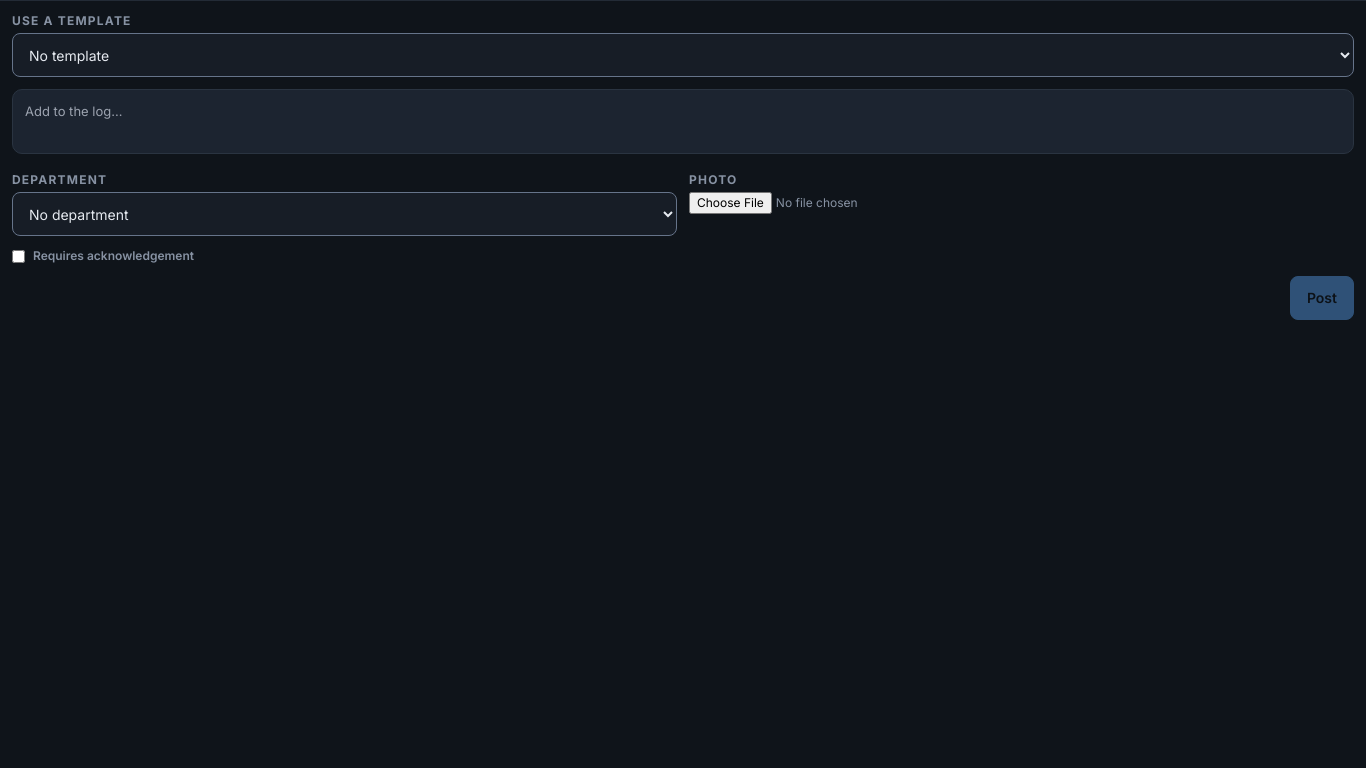
Test: LogComposer with templates › shows the server’s reason beside the field it names
Step 1. Select "Night Audit" in the dropdown labelled "Use a template" → (683,55), box [12,33,1354,77]
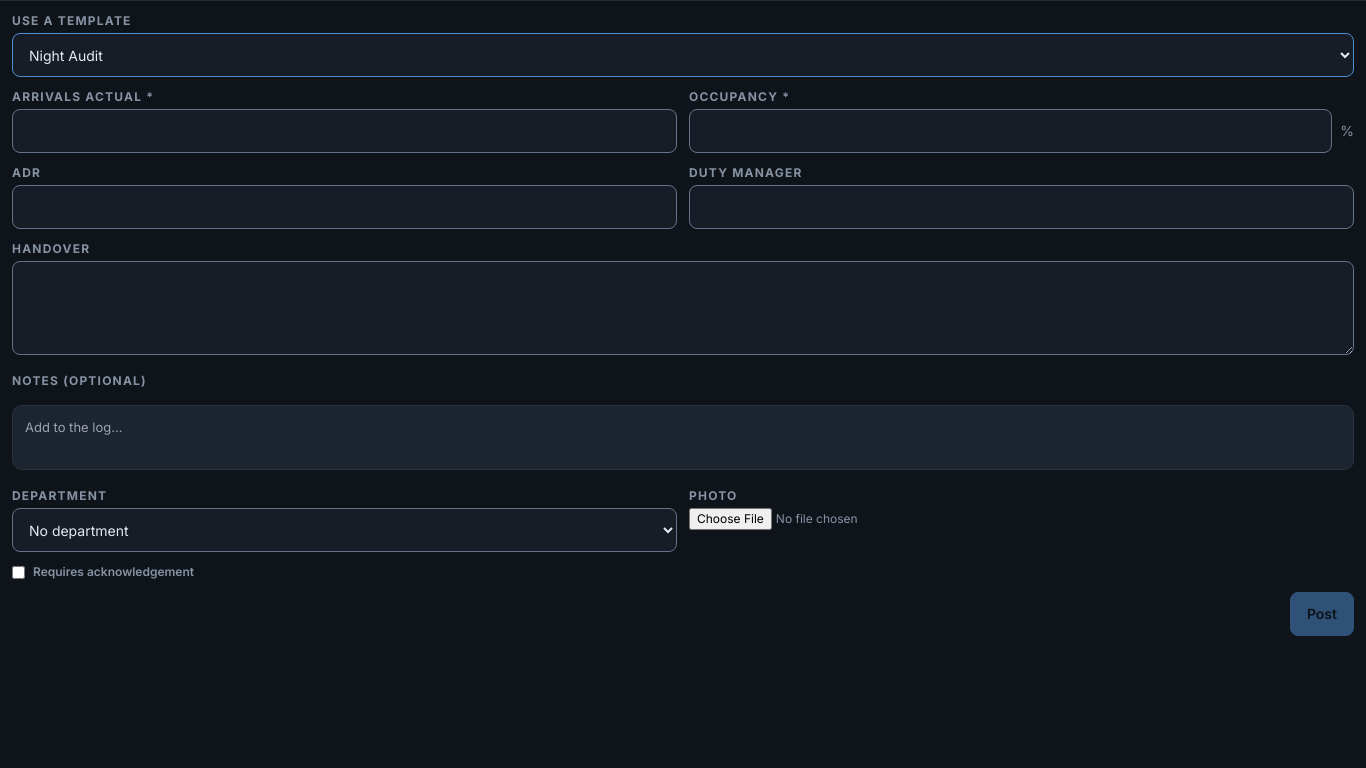
Step 2. Type "12.5" into the field labelled "Arrivals actual *" → (344,131), box [12,109,677,153]
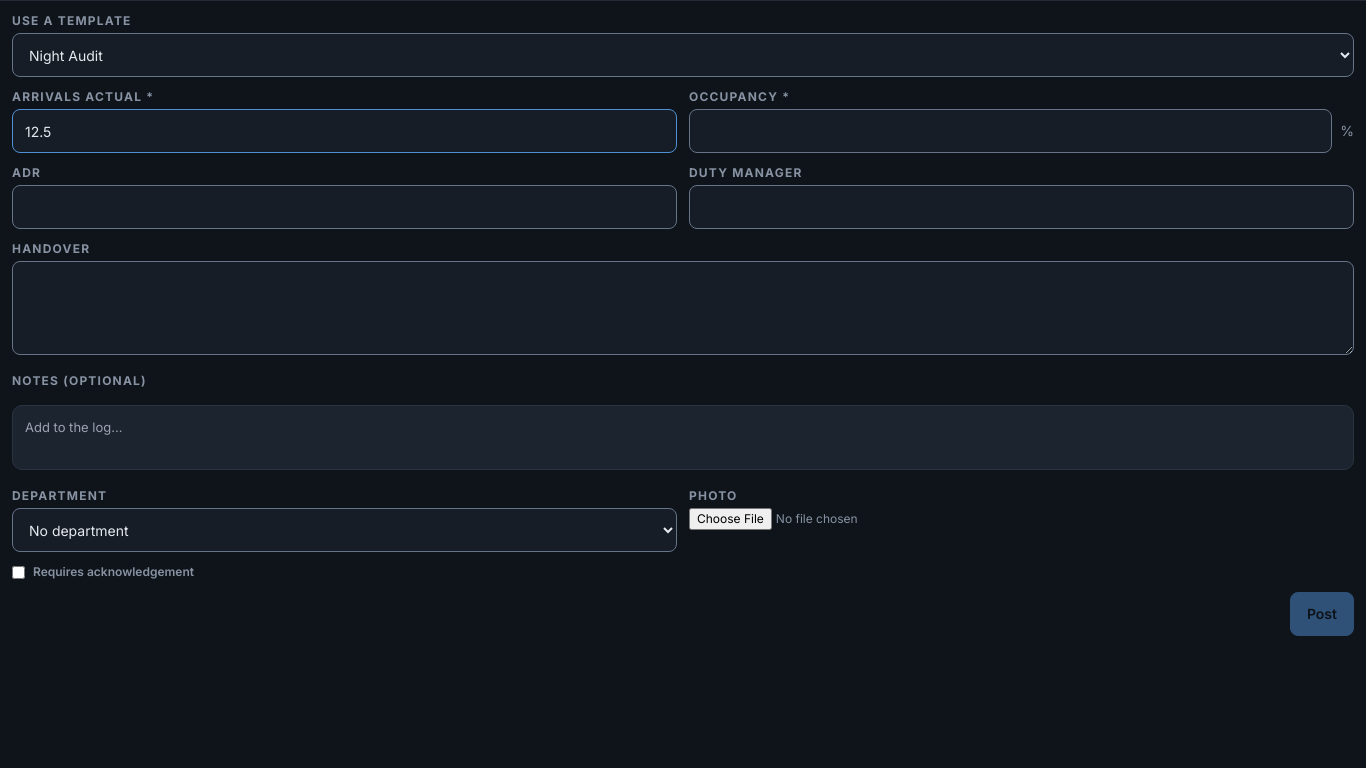
Step 3. Type "140" into the field labelled "Occupancy *" → (1011,131), box [689,109,1332,153]
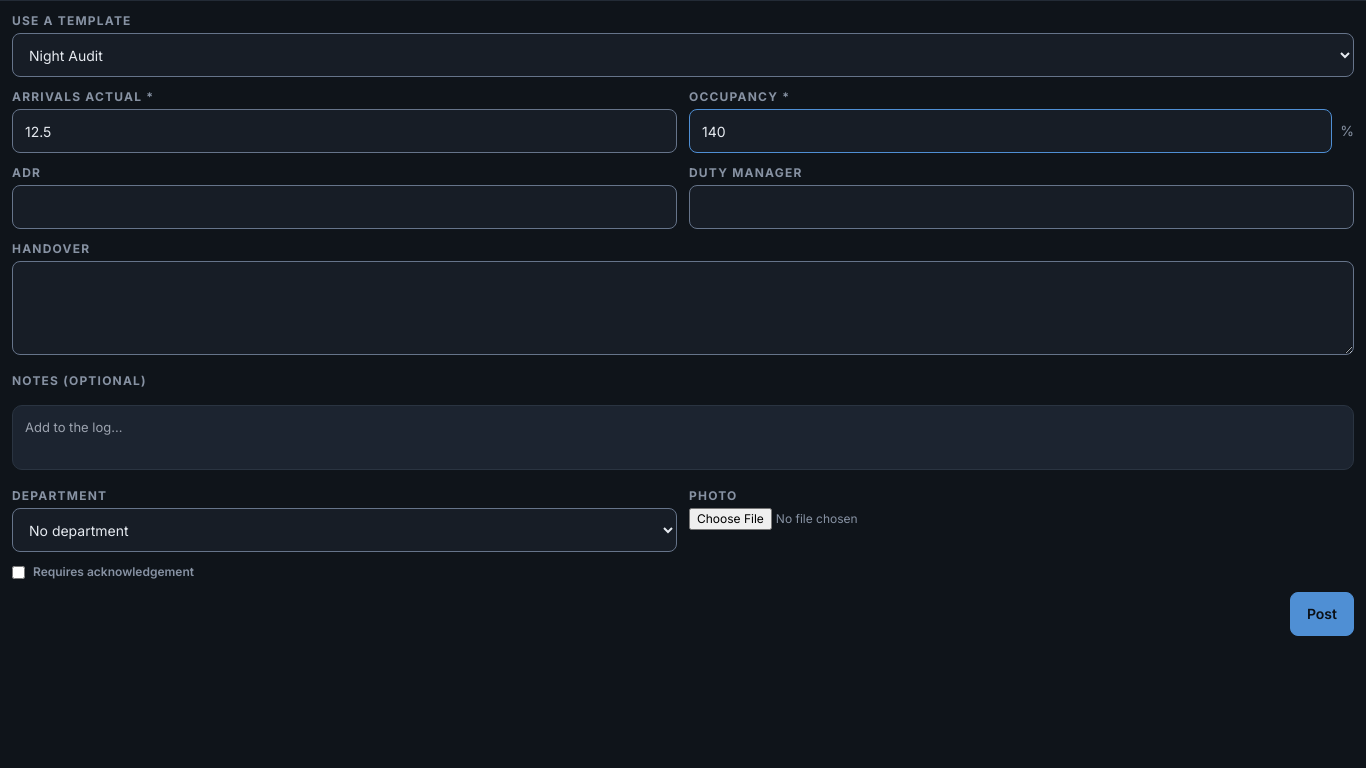
Step 4. Click the button "Post" → (1322,614), box [1290,592,1354,636]
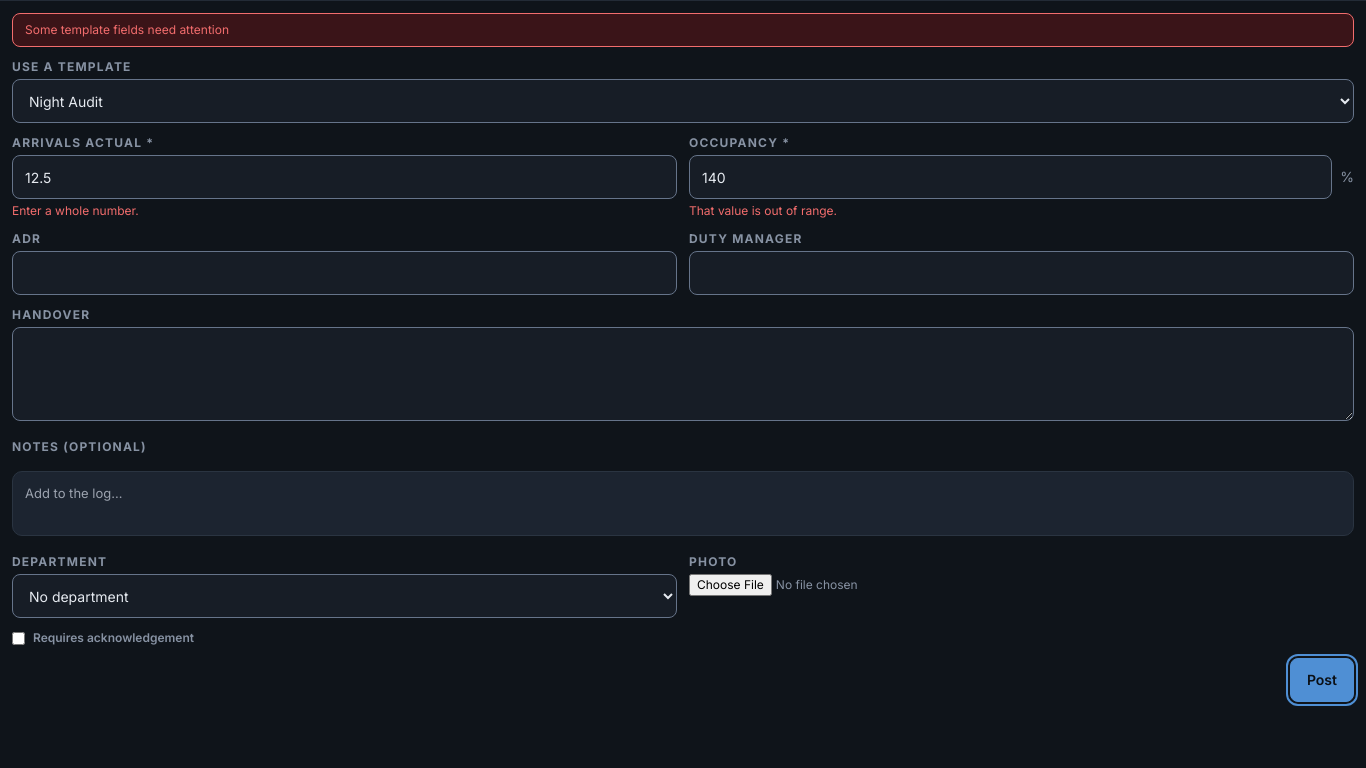
Result: the text "That value is out of range." is shown at [689,203,837,218]
Result: the text "Enter a whole number." is shown at [12,203,139,218]
Result: the message reads "Some template fields need attention" at [25,22,229,37]
